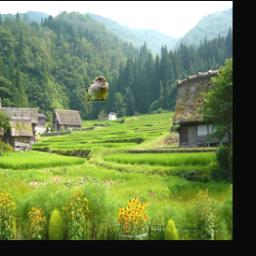Sparrow: (85, 76, 108, 102)
